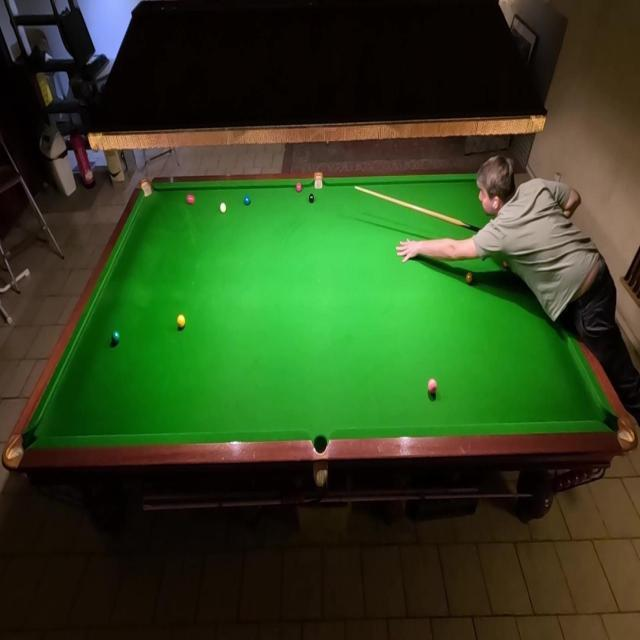Ball: (428, 378, 438, 394), (111, 330, 121, 344), (177, 314, 186, 329), (466, 272, 474, 286), (186, 194, 196, 204), (244, 195, 252, 207), (220, 203, 227, 213), (296, 182, 302, 192), (308, 194, 314, 204), (503, 262, 508, 268)
